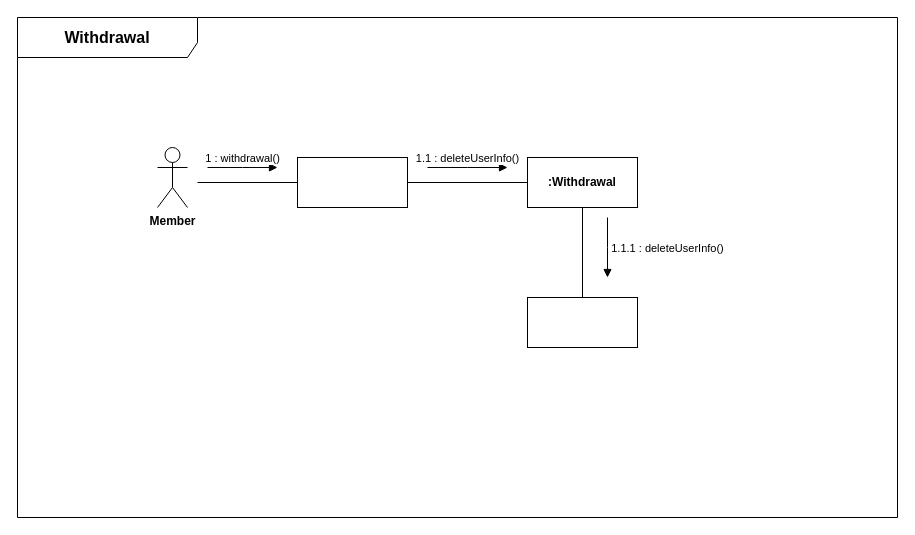
Image size: 915x535. Some labels were removed from this diagram. Here are the shapes that lost their labels. From the top down, the centre of each, then its label:
At (352,182): ":WithdrawalUI".
At (582,322): ":Member".
